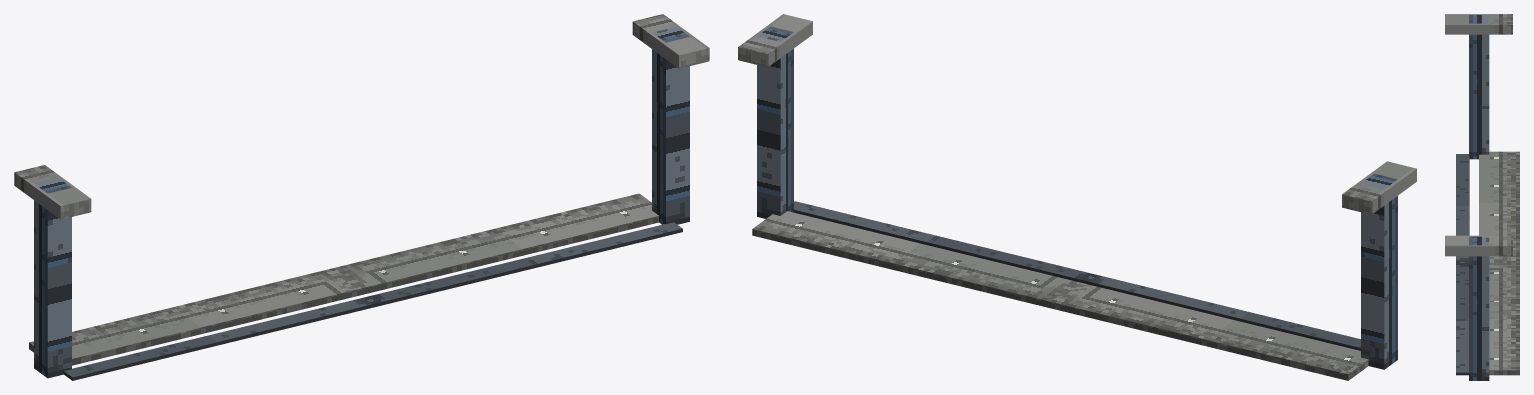
File: pp_transfer_edge.glb
The picture shows the model from 3 angles, left to right: view 1: azimuth 30°, elevation 25°; view 2: azimuth 150°, elevation 25°; view 3: azimuth 270°, elevation 25°; orthographic projection. The views are drawn at different scales.
Visible parts, largest first — view 1: edge_nosing, edge_band, edge_post_-1, edge_post_1, edge_cap_1, edge_cap_-1; view 2: edge_nosing, edge_band, edge_post_-1, edge_post_1, edge_cap_-1, edge_cap_1; view 3: edge_nosing, edge_post_1, edge_post_-1, edge_band, edge_cap_1, edge_cap_-1.
Boxes of the visible parts, x1,y1,x2,y2 form: edge_nosing: (29,193,658,365); edge_band: (63,222,682,380); edge_post_-1: (34,177,71,378); edge_post_1: (652,27,689,224); edge_cap_1: (632,14,709,68); edge_cap_-1: (14,165,91,219); edge_nosing: (752,211,1368,380); edge_band: (793,201,1360,350); edge_post_-1: (1361,173,1397,369); edge_post_1: (757,26,793,218); edge_cap_-1: (1342,161,1416,214); edge_cap_1: (738,14,812,67); edge_nosing: (1479,151,1519,375); edge_post_1: (1469,236,1489,380); edge_post_-1: (1469,15,1489,159); edge_band: (1456,154,1469,375); edge_cap_1: (1445,235,1512,256); edge_cap_-1: (1445,14,1512,34).
Size of the model in its own units: 4.04 by 1.1 by 0.55.
2 materials, 2 textured.
